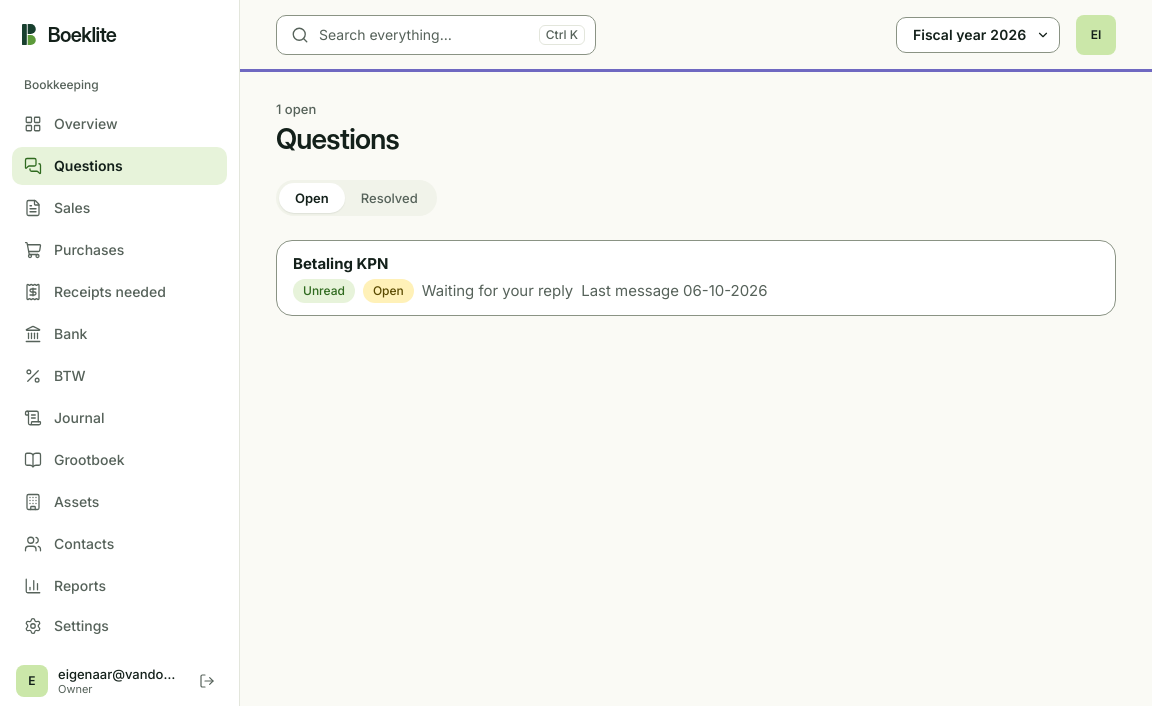
questions inside a client › lists open threads with an unread marker and whose move it is, and switches tabs
Check: the link with test id "questions-thread-t-1" shows "Betaling KPN", box [293,254,768,303]
Check: the link with test id "questions-thread-t-1" shows "Unread", box [293,254,768,303]
Click the tab with test id "questions-tab-resolved": (389, 198) [345,183,434,213]
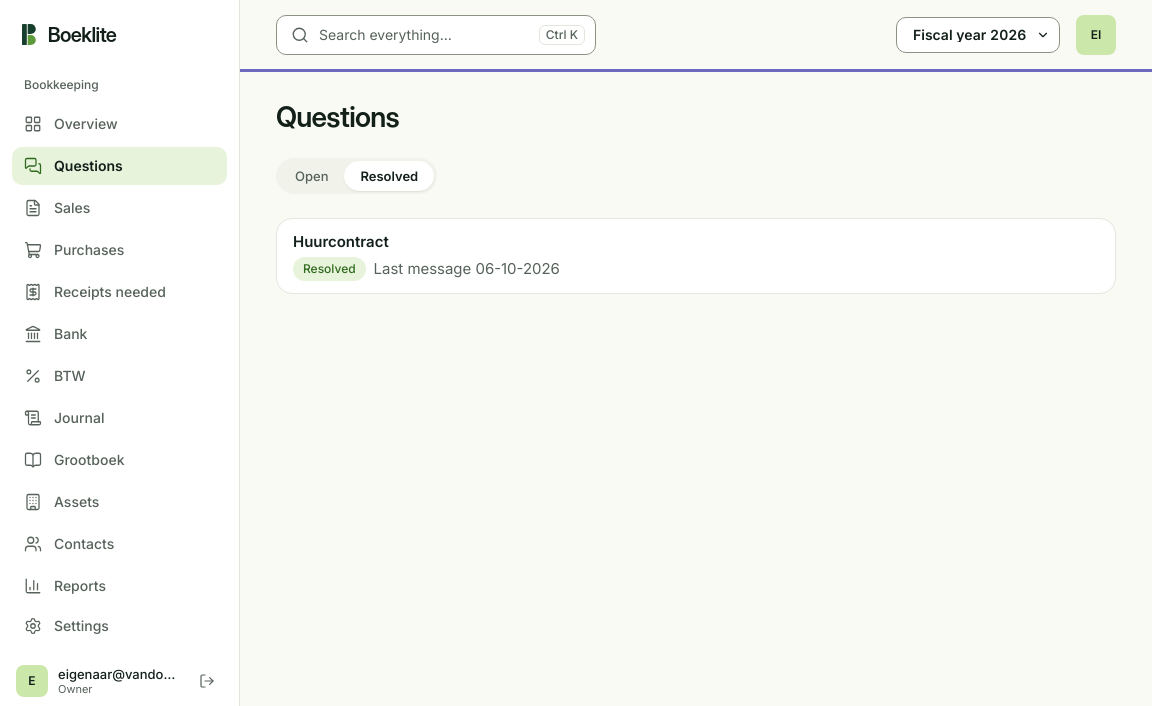
Check: the text "Huurcontract" is shown, box [293,232,389,251]
Check: the link "Betaling KPN" is gone
